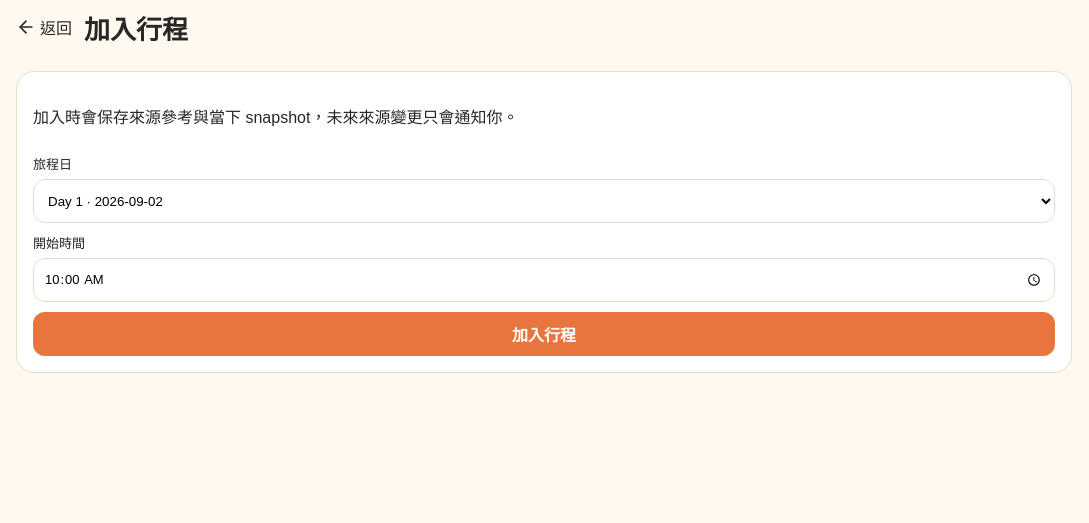
Test: M2 discovery interactions › preserves the itinerary and shows the PT409 conflict state when adding an event
Click the button "加入行程".
click(544, 334)  # box x1=33 y1=312 x2=1055 y2=356
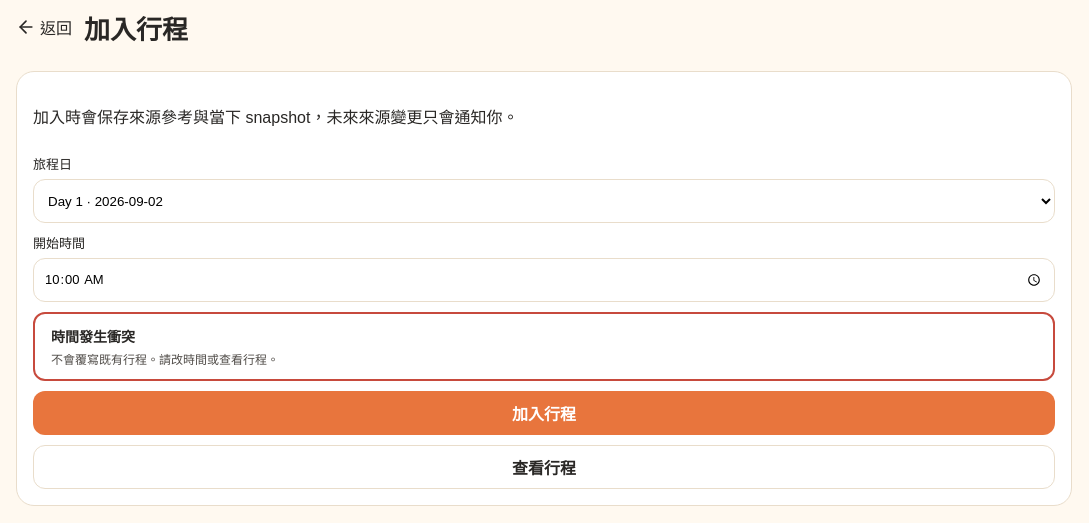
Check: the text "時間發生衝突" is shown, box x1=51 y1=329 x2=135 y2=345
Check: the text "不會覆寫既有行程。請改時間或查看行程。" is shown, box x1=51 y1=353 x2=279 y2=367
